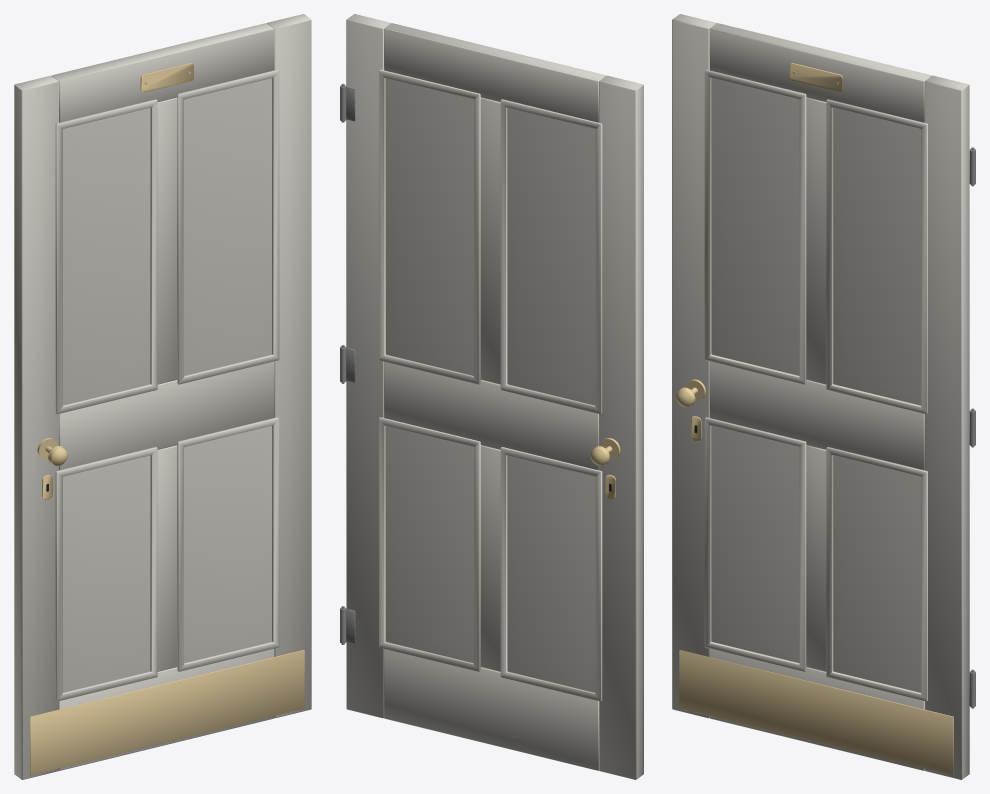
Rendered from Corridor_DoorLeaf.fbx.
3 renders of one model, left to right at view 1: azimuth 30°, elevation 25°; view 2: azimuth 150°, elevation 25°; view 3: azimuth 330°, elevation 25°, orthographic.
Visible parts, largest first — view 1: Corridor_DoorLeaf; view 2: Corridor_DoorLeaf; view 3: Corridor_DoorLeaf.
Part boxes in pixels (box(x1,y1,x2,y2)): Corridor_DoorLeaf: box(14, 14, 311, 779); Corridor_DoorLeaf: box(340, 14, 643, 779); Corridor_DoorLeaf: box(672, 14, 975, 779).
Size of the model in its own units: 0.9435 by 2.12 by 0.211.
